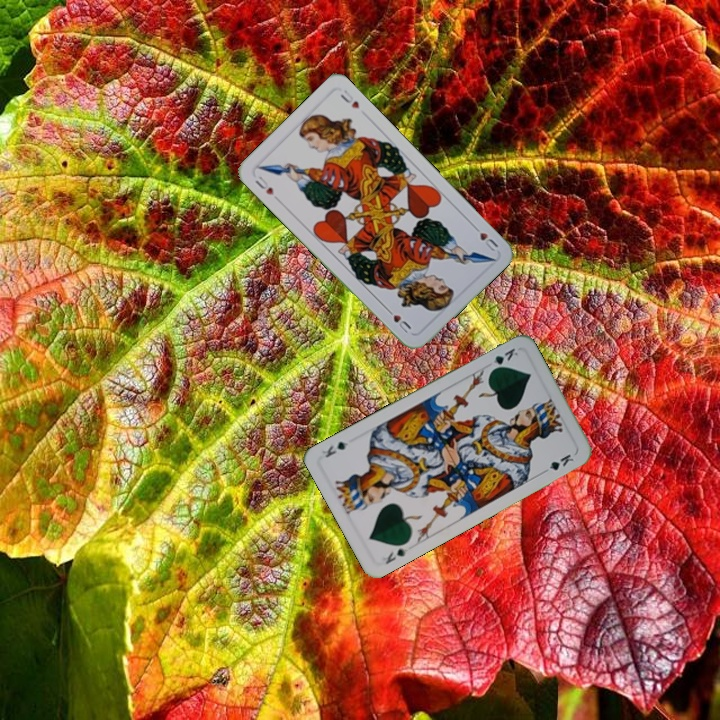GK: (486, 344, 520, 374), (378, 544, 410, 567)
HU: (468, 221, 501, 254), (251, 172, 277, 198)
